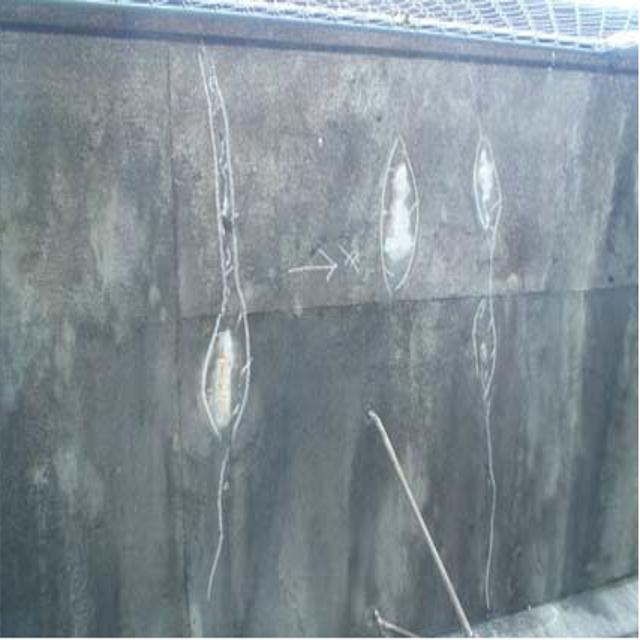freelime: (196, 309, 261, 447), (370, 153, 429, 277), (463, 143, 508, 228)
